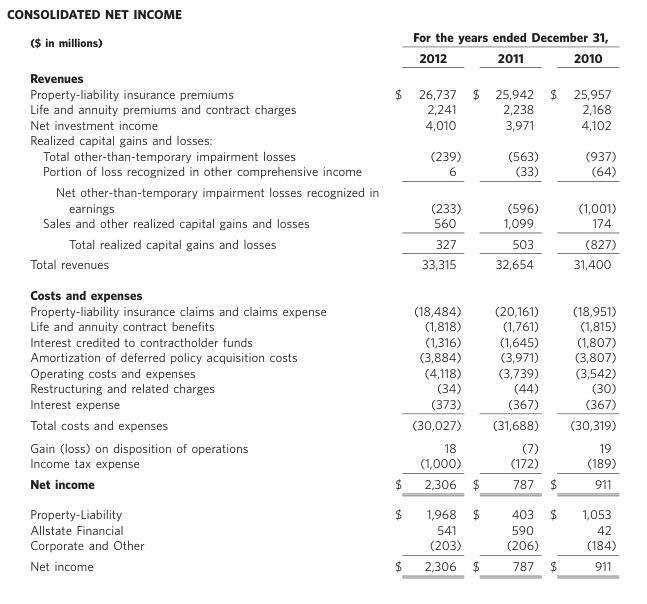table: (29, 29, 615, 572)
table column: (29, 29, 386, 572), (386, 29, 466, 572), (466, 29, 543, 572), (543, 29, 615, 572)
table column header: (29, 29, 615, 67)
table projected row header: (29, 279, 615, 302), (29, 67, 615, 85), (29, 132, 615, 147)
table row: (29, 181, 615, 214), (29, 253, 615, 279), (29, 473, 615, 498), (29, 279, 615, 302), (29, 498, 615, 521), (29, 413, 615, 435), (29, 46, 615, 67), (29, 232, 615, 253), (29, 435, 615, 455), (29, 67, 615, 85), (29, 163, 615, 181), (29, 214, 615, 232), (29, 395, 615, 413), (29, 455, 615, 473), (29, 537, 615, 555), (29, 29, 615, 46), (29, 555, 615, 572), (29, 85, 615, 101), (29, 116, 615, 132), (29, 147, 615, 163), (29, 302, 615, 318), (29, 333, 615, 349), (29, 364, 615, 380), (29, 521, 615, 537), (29, 101, 615, 116), (29, 132, 615, 147), (29, 318, 615, 333), (29, 349, 615, 364), (29, 380, 615, 395)
table spanning cell: (29, 29, 386, 67), (386, 29, 615, 46)
